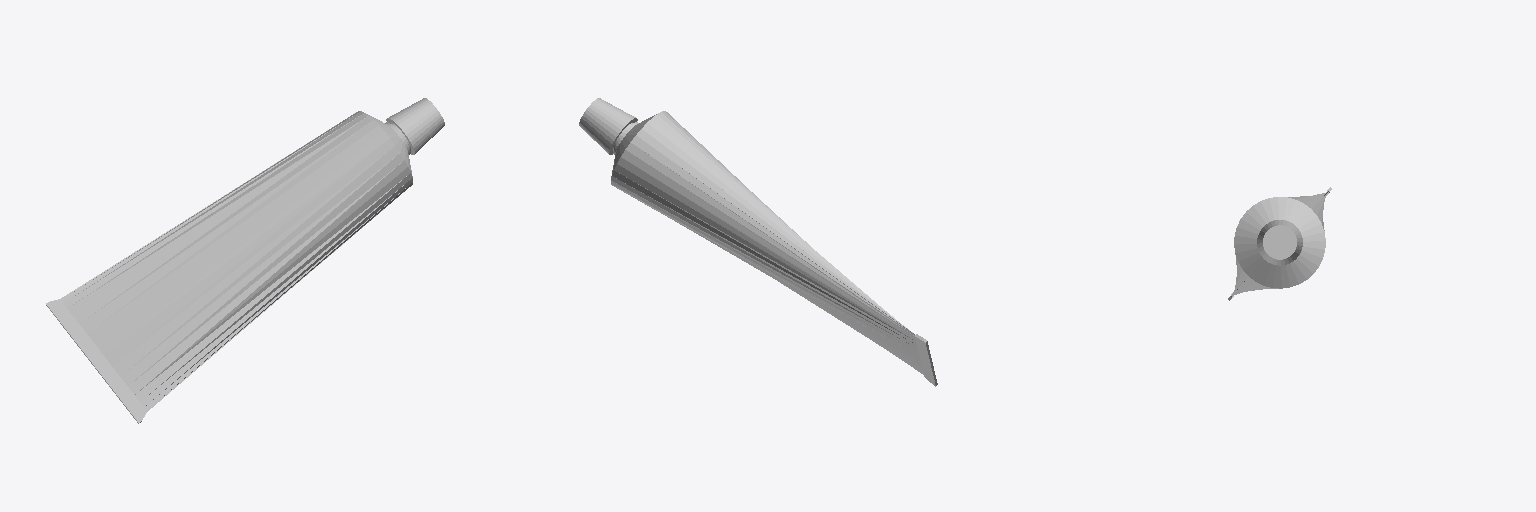
File: Pasta de dente.obj
3 renders of one model, left to right at view 1: azimuth 30°, elevation 25°; view 2: azimuth 150°, elevation 25°; view 3: azimuth 270°, elevation 25°, orthographic.
Parts seen in each view (by area): view 1: Mesh1 Component_3__5_1 Model; view 2: Mesh1 Component_3__5_1 Model; view 3: Mesh1 Component_3__5_1 Model.
Boxes of the visible parts, x1=… form: Mesh1 Component_3__5_1 Model: x1=46, y1=98, x2=444, y2=423; Mesh1 Component_3__5_1 Model: x1=579, y1=98, x2=937, y2=386; Mesh1 Component_3__5_1 Model: x1=1228, y1=187, x2=1331, y2=300.
Size of the model in its own units: 1.26 by 0.7451 by 0.3105.